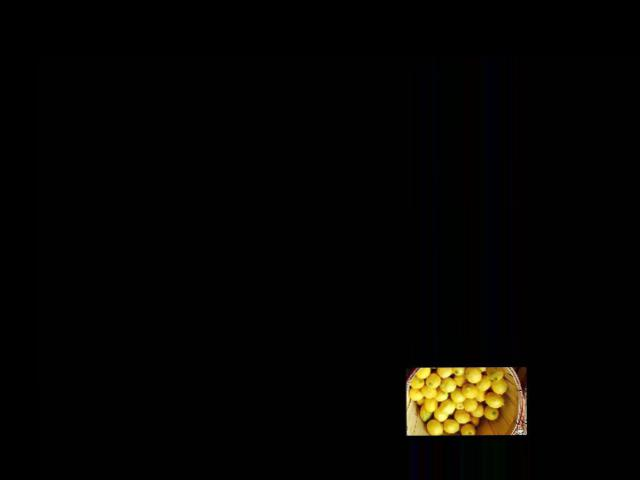lemon: (458, 421, 474, 434)
